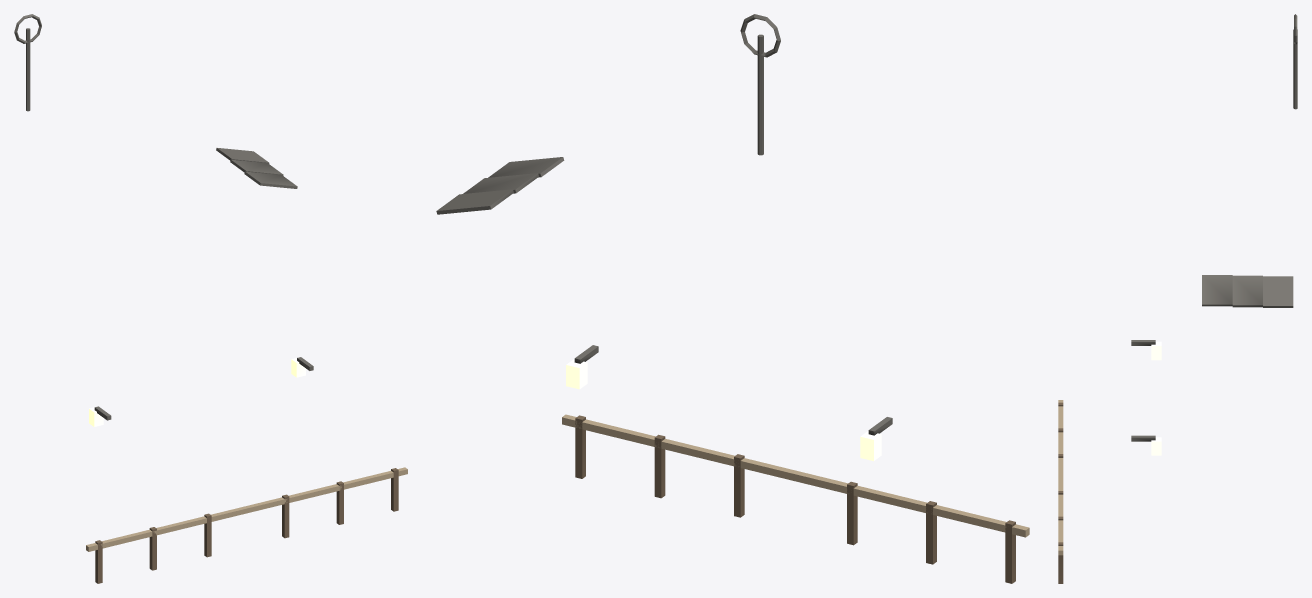
File: farmhouse_l3.glb
The picture shows the model from 3 angles, left to right: view 1: azimuth 30°, elevation 25°; view 2: azimuth 150°, elevation 25°; view 3: azimuth 270°, elevation 25°; orthographic projection. The views are drawn at different scales.
Parts seen in each view (by area): view 1: antenna; view 2: antenna; view 3: antenna.
Boxes of the visible parts, x1,y1,x2,y2 form: antenna: [14, 14, 407, 583]; antenna: [436, 14, 1029, 583]; antenna: [1058, 14, 1297, 583].
Bounding box in the file's own units: 4.1 × 5.72 × 2.76.
